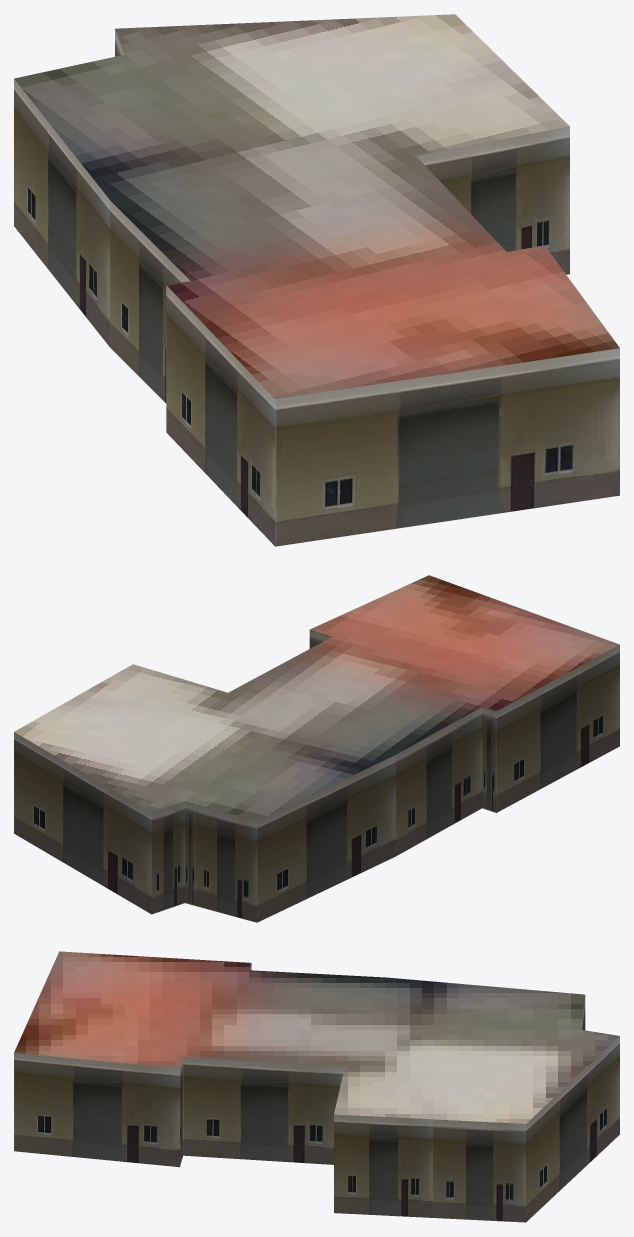
File: T_1T09E4NWBV.dae
The picture shows the model from 3 angles, top to bottom: view 1: azimuth 30°, elevation 25°; view 2: azimuth 150°, elevation 25°; view 3: azimuth 270°, elevation 25°; orthographic projection. The views are drawn at different scales.
Parts seen in each view (by area): view 1: SketchUp (×6); view 2: SketchUp (×9); view 3: SketchUp (×7).
Boxes of the visible parts, left/top/right/bottom form: SketchUp (×6): left=14, top=14, right=619, bottom=546; SketchUp (×9): left=14, top=575, right=619, bottom=922; SketchUp (×7): left=14, top=951, right=619, bottom=1222.
Size of the model in its own units: 8.34 by 12.37 by 2.22.
Materials: 2 (2 with a texture image).
